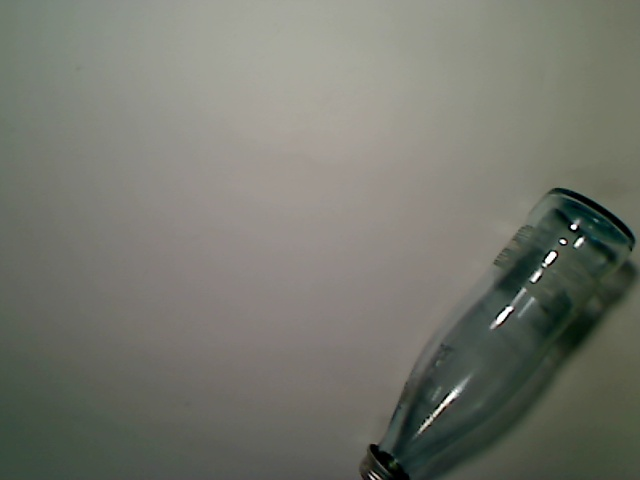bottle: (359, 188, 636, 480)
